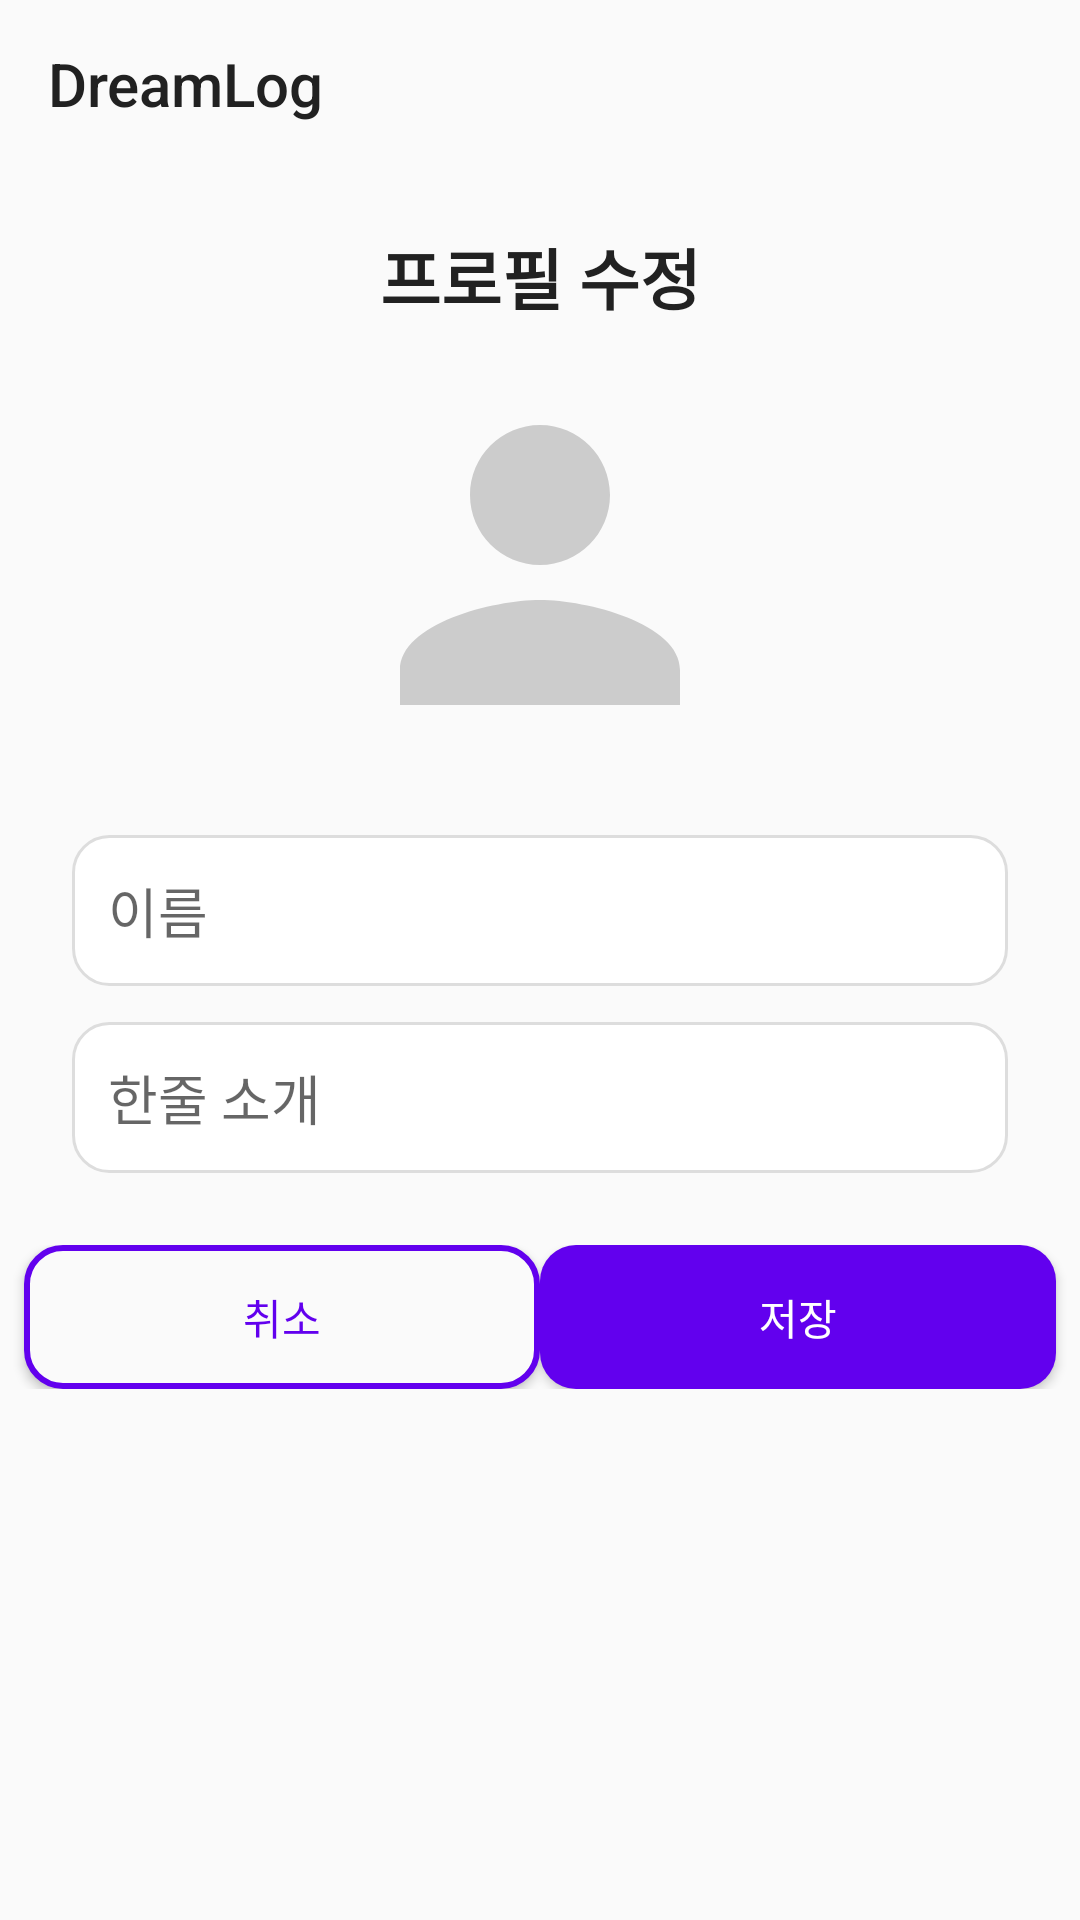

Screen size 1080×1920. Icon name, then its center in pixels as (x=x, y=y):
profile: (x=540, y=565)
